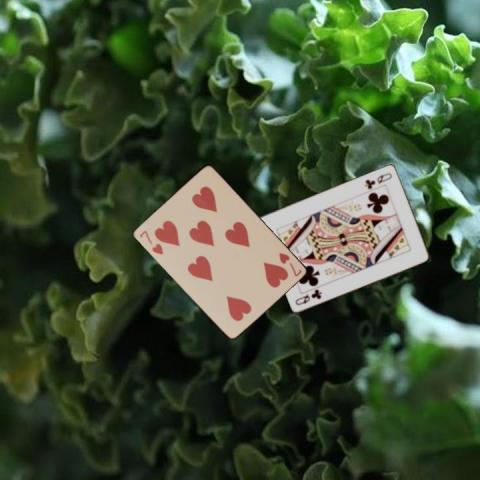7h: (136, 227, 165, 256), (275, 249, 303, 278)
Qc: (362, 169, 393, 190), (292, 286, 323, 306)
